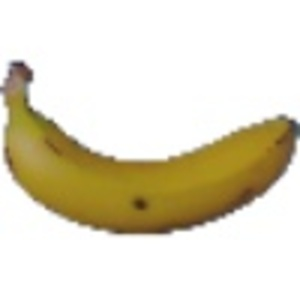banana: (2, 54, 297, 241)
